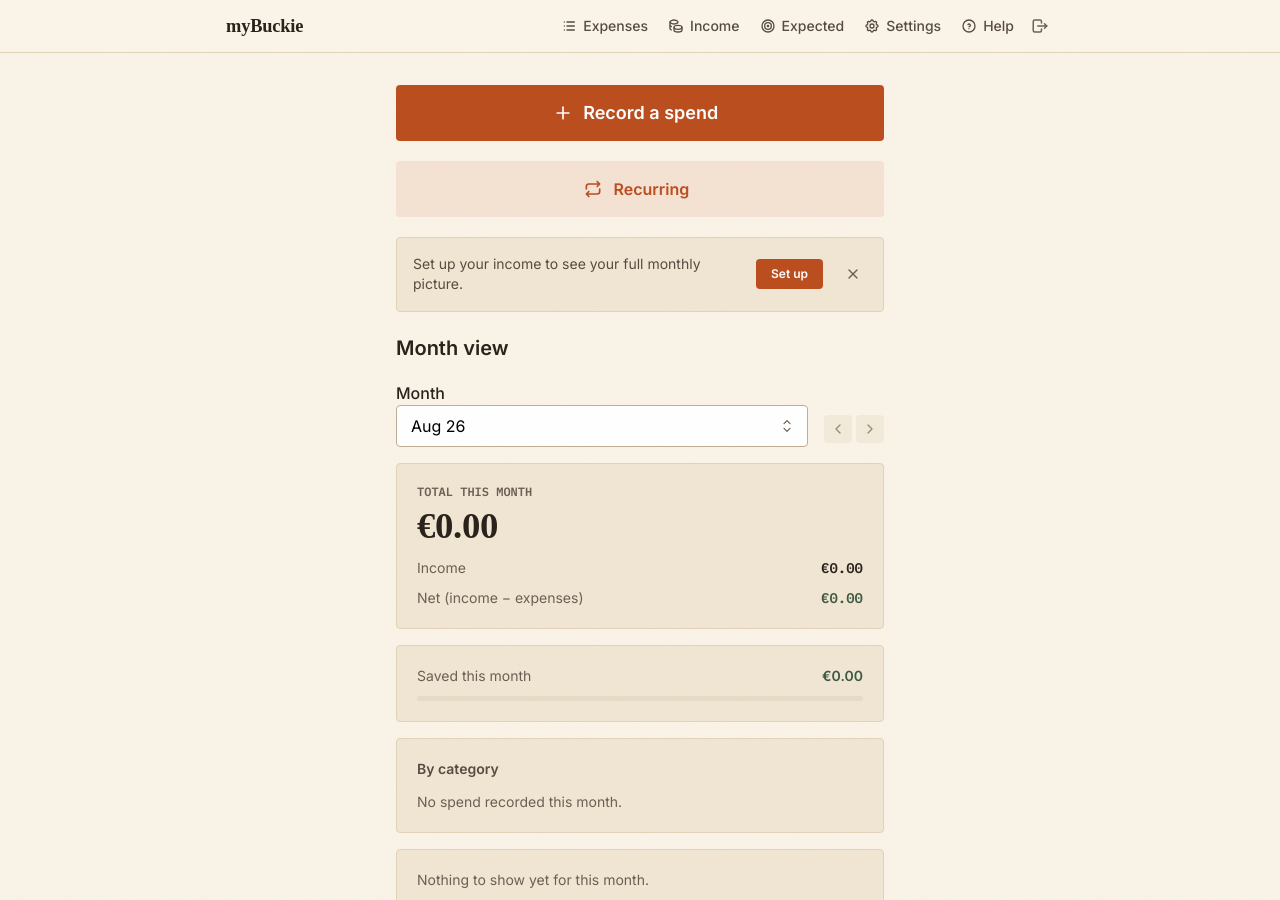
Test case: Persistent header (BA-DS-005) › clears the cached key on sign-out
Click the button named "sign out".
click(1040, 26)  # box [1026, 12, 1054, 40]
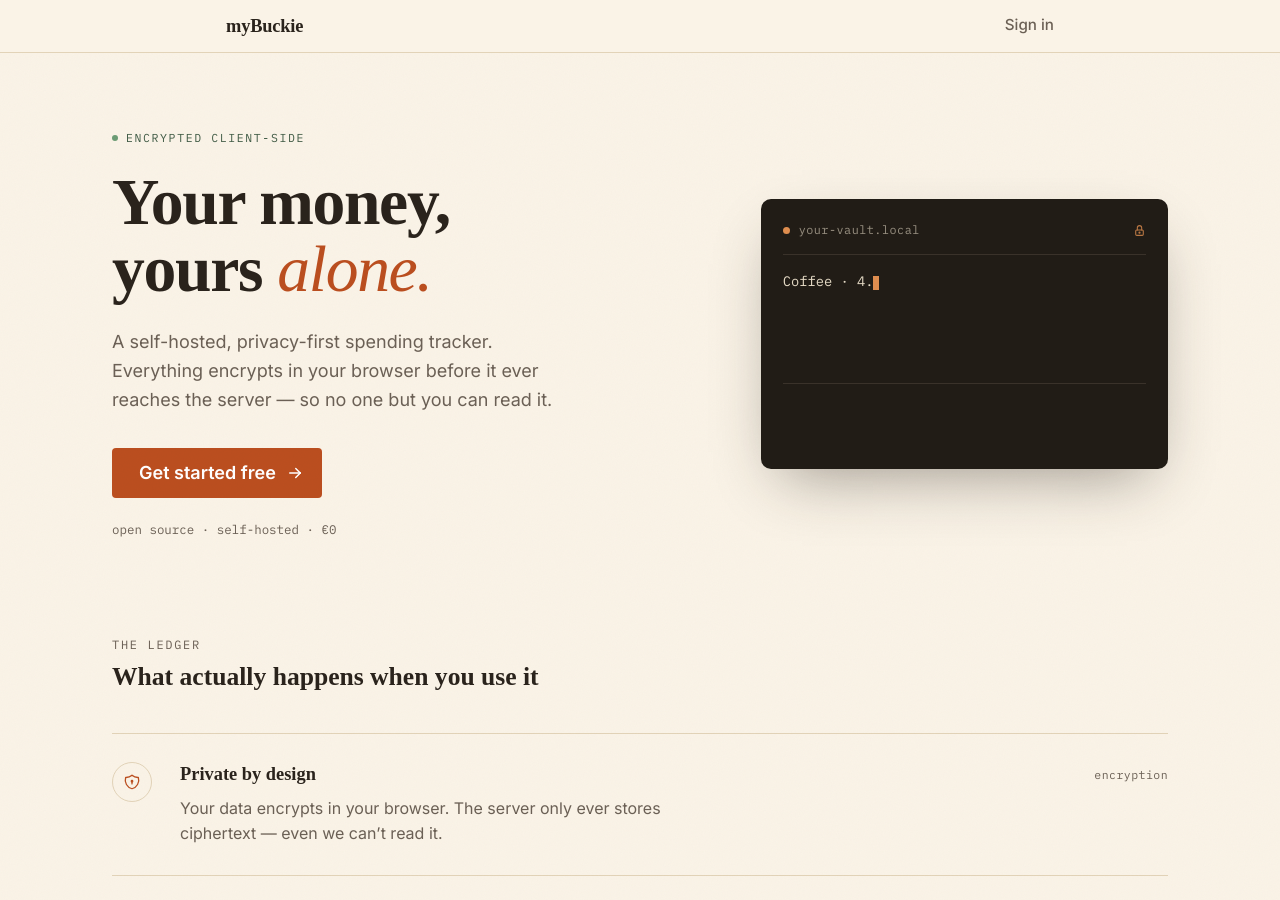
Now the link "Get started free" is shown, box [112, 448, 322, 498]
